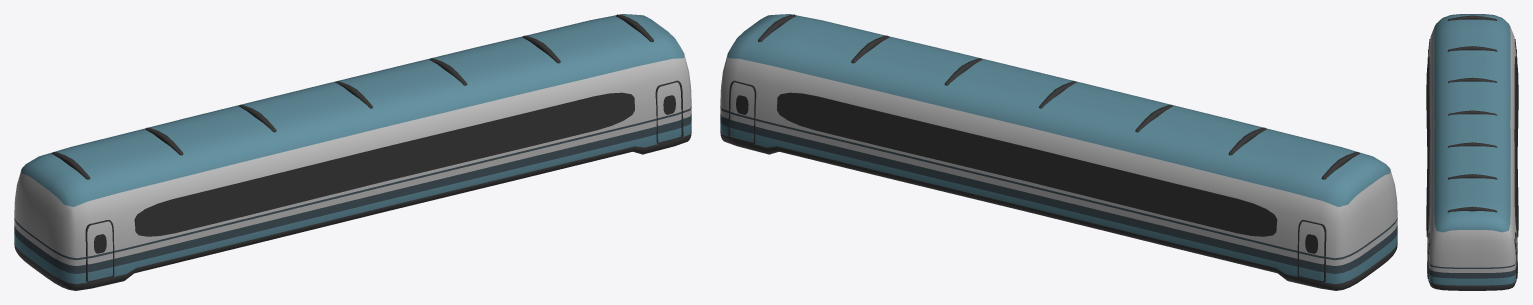
The model's file is HighSpeed_Wagon.glb.
3 views of the same model, side by side, from view 1: azimuth 30°, elevation 25°; view 2: azimuth 150°, elevation 25°; view 3: azimuth 270°, elevation 25° (orthographic). The views are drawn at different scales.
Parts seen in each view (by area): view 1: HighspeedTrain_Wagon; view 2: HighspeedTrain_Wagon; view 3: HighspeedTrain_Wagon.
Boxes of the visible parts, x1=… form: HighspeedTrain_Wagon: x1=14, y1=14, x2=691, y2=290; HighspeedTrain_Wagon: x1=720, y1=14, x2=1397, y2=290; HighspeedTrain_Wagon: x1=1426, y1=14, x2=1518, y2=290.
Bounding box in the file's own units: 11.18 × 1.9 × 2.03.
